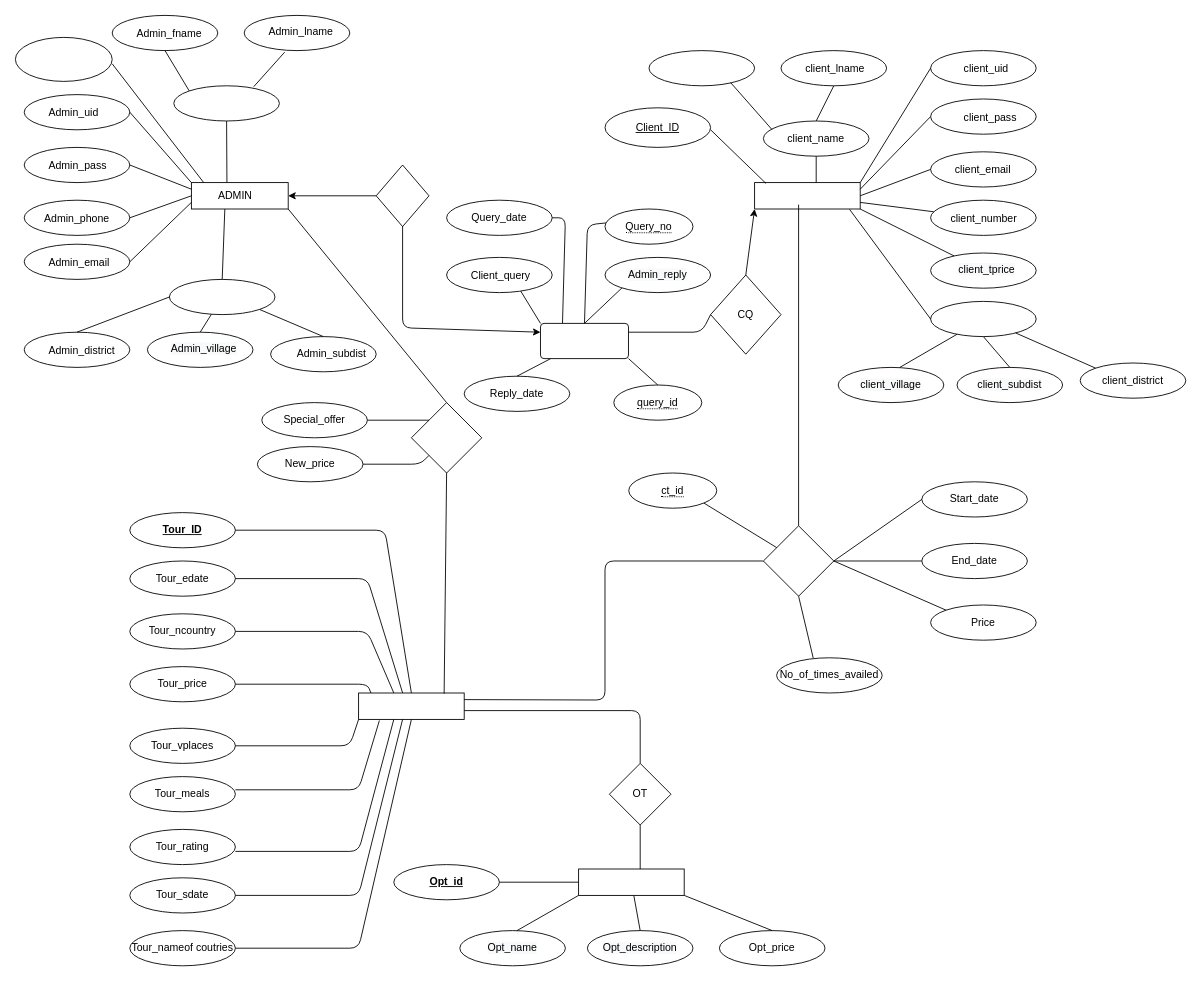
This 1201x995 diagram has some shape labels left out. The shapes that lost their labels are listed below. From the top down, each one's box as (x1, y1, x2, y2) in pixels, then its label:
(15, 37, 112, 81): Admin_ID
(648, 50, 755, 86): client_fname
(173, 85, 279, 121): Admin_name
(375, 164, 429, 227): AQ
(754, 182, 860, 209): CLIENT
(169, 279, 275, 315): Admin_address
(930, 301, 1036, 337): client_address
(540, 323, 628, 359): Query
(411, 402, 482, 473): AT
(763, 525, 834, 596): CT
(358, 692, 464, 719): TOURS
(578, 868, 684, 895): OPTIONAL_TOUR
